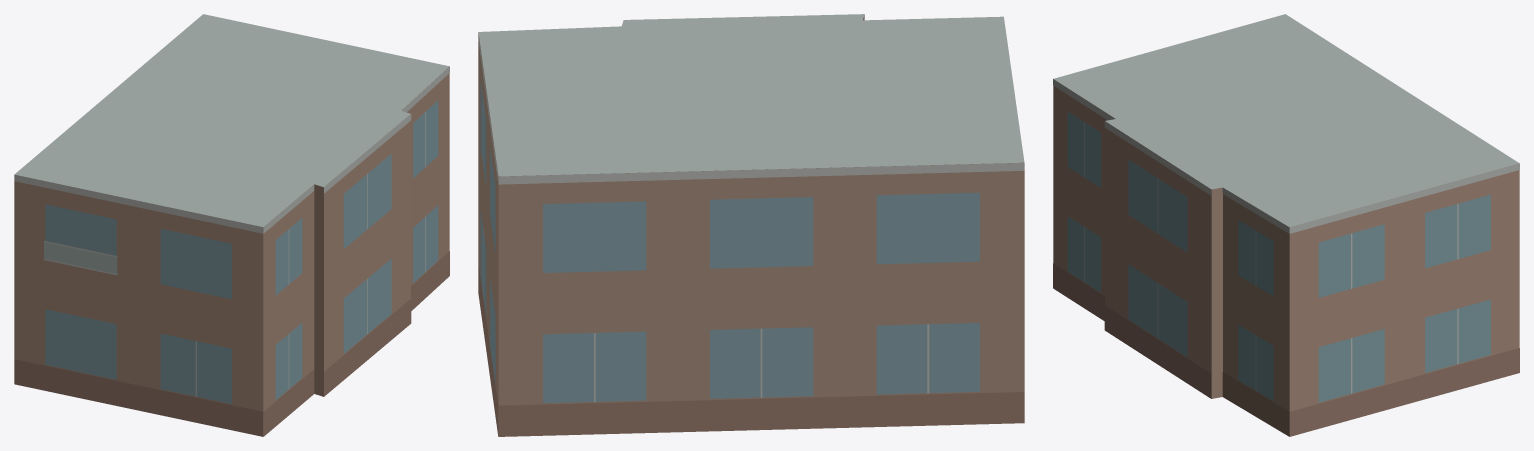
File: survey-upis-32621828.glb
3 renders of one model, left to right at view 1: azimuth 30°, elevation 25°; view 2: azimuth 150°, elevation 25°; view 3: azimuth 270°, elevation 25°, orthographic. The views are drawn at different scales.
Visible parts, largest first — view 1: survey-upis-32621828.tmp; view 2: survey-upis-32621828.tmp; view 3: survey-upis-32621828.tmp.
Part boxes in pixels (x1=…): survey-upis-32621828.tmp: x1=14, y1=14, x2=449, y2=436; survey-upis-32621828.tmp: x1=478, y1=14, x2=1024, y2=436; survey-upis-32621828.tmp: x1=1053, y1=14, x2=1519, y2=436.
Size of the model in its own units: 17.04 by 7.8 by 15.75.
